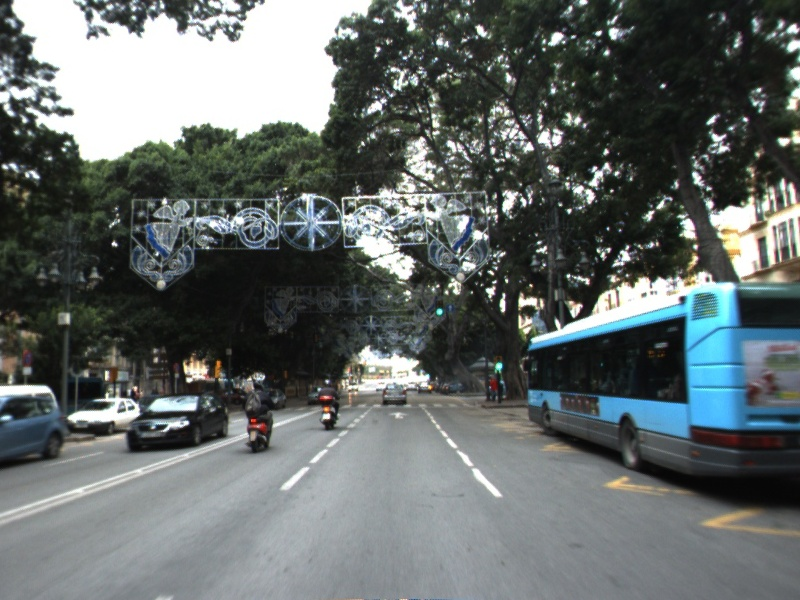STRAIGHT: (386, 409, 411, 421)
